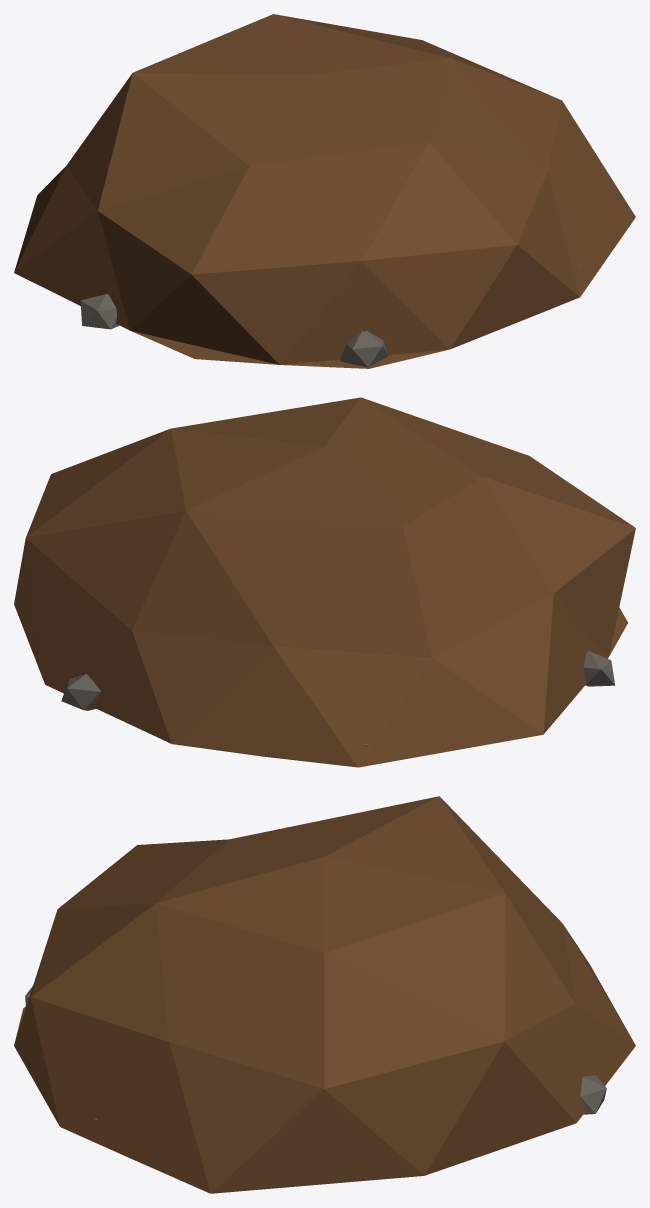
Rendered from Mining_DirtPile.fbx.
3 renders of one model, top to bottom at view 1: azimuth 30°, elevation 25°; view 2: azimuth 150°, elevation 25°; view 3: azimuth 270°, elevation 25°, orthographic. The views are drawn at different scales.
Parts seen in each view (by area): view 1: Mining_DirtPile; view 2: Mining_DirtPile; view 3: Mining_DirtPile.
Part boxes in pixels (bbox=[...]): Mining_DirtPile: bbox=[14, 14, 635, 368]; Mining_DirtPile: bbox=[14, 397, 635, 767]; Mining_DirtPile: bbox=[14, 796, 635, 1193].
Size of the model in its own units: 4.4 by 1.51 by 4.11.
